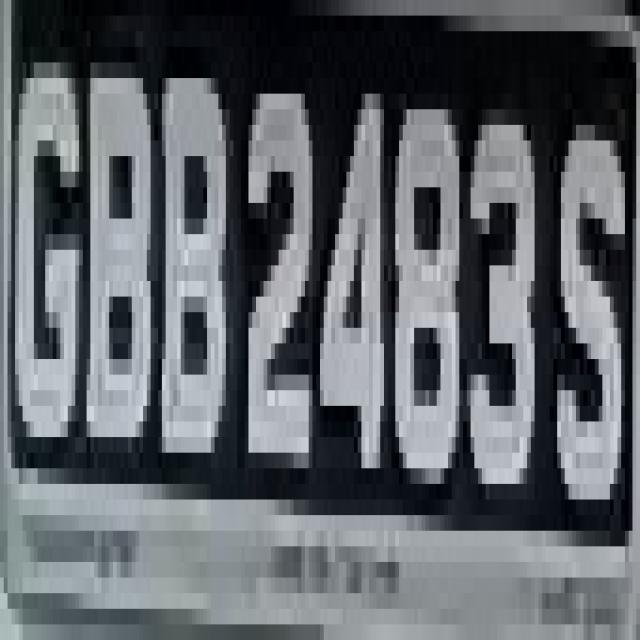2: (237, 47, 316, 562)
3: (459, 94, 554, 515)
4: (320, 16, 388, 484)
8: (388, 47, 459, 546)
B: (154, 31, 230, 484), (90, 31, 154, 515)
G: (15, 62, 83, 484)
S: (557, 63, 633, 515)
